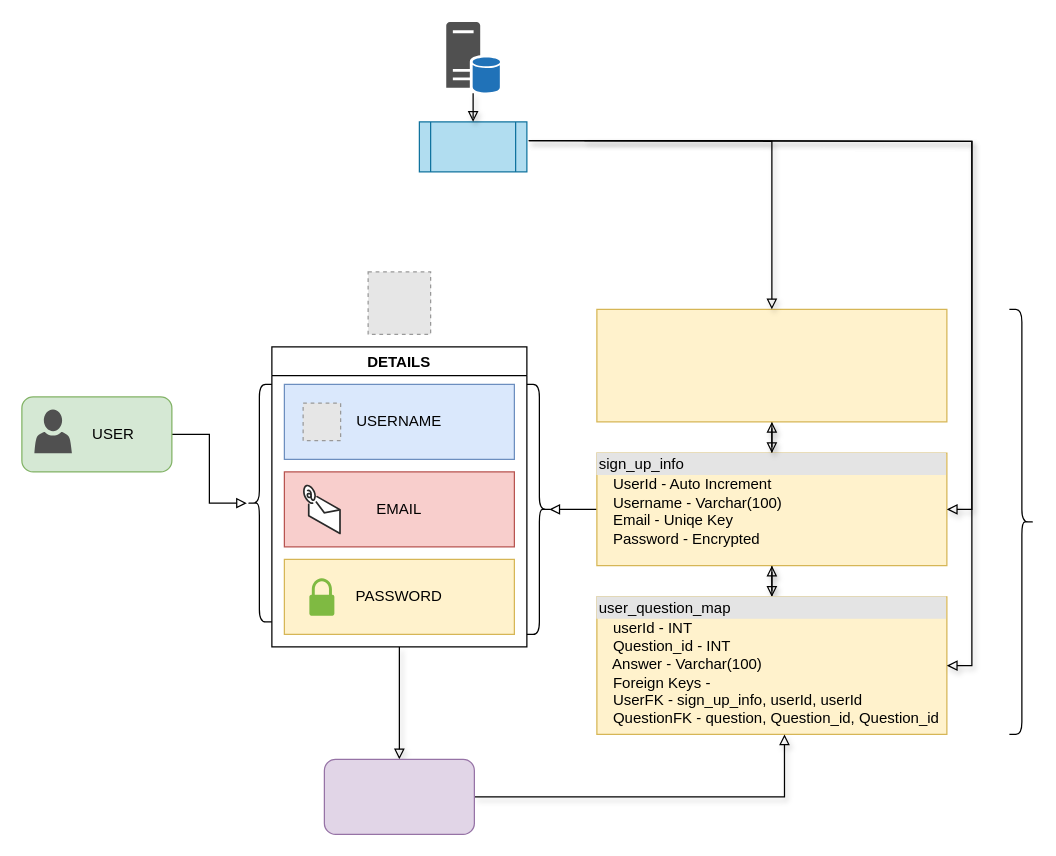
Image size: 1056x856. Some labels were removed from this diagram. Grey dashed boxes stand in for pictures. The centre of each missing label's shape, as x and y in pixels:
"Database Credentials" goes at pixel 472 146.
"question Question_id - Auto increment Question - Varchar(100)" goes at pixel 771 365.
"SET QUESTIONS" goes at pixel 398 796.
